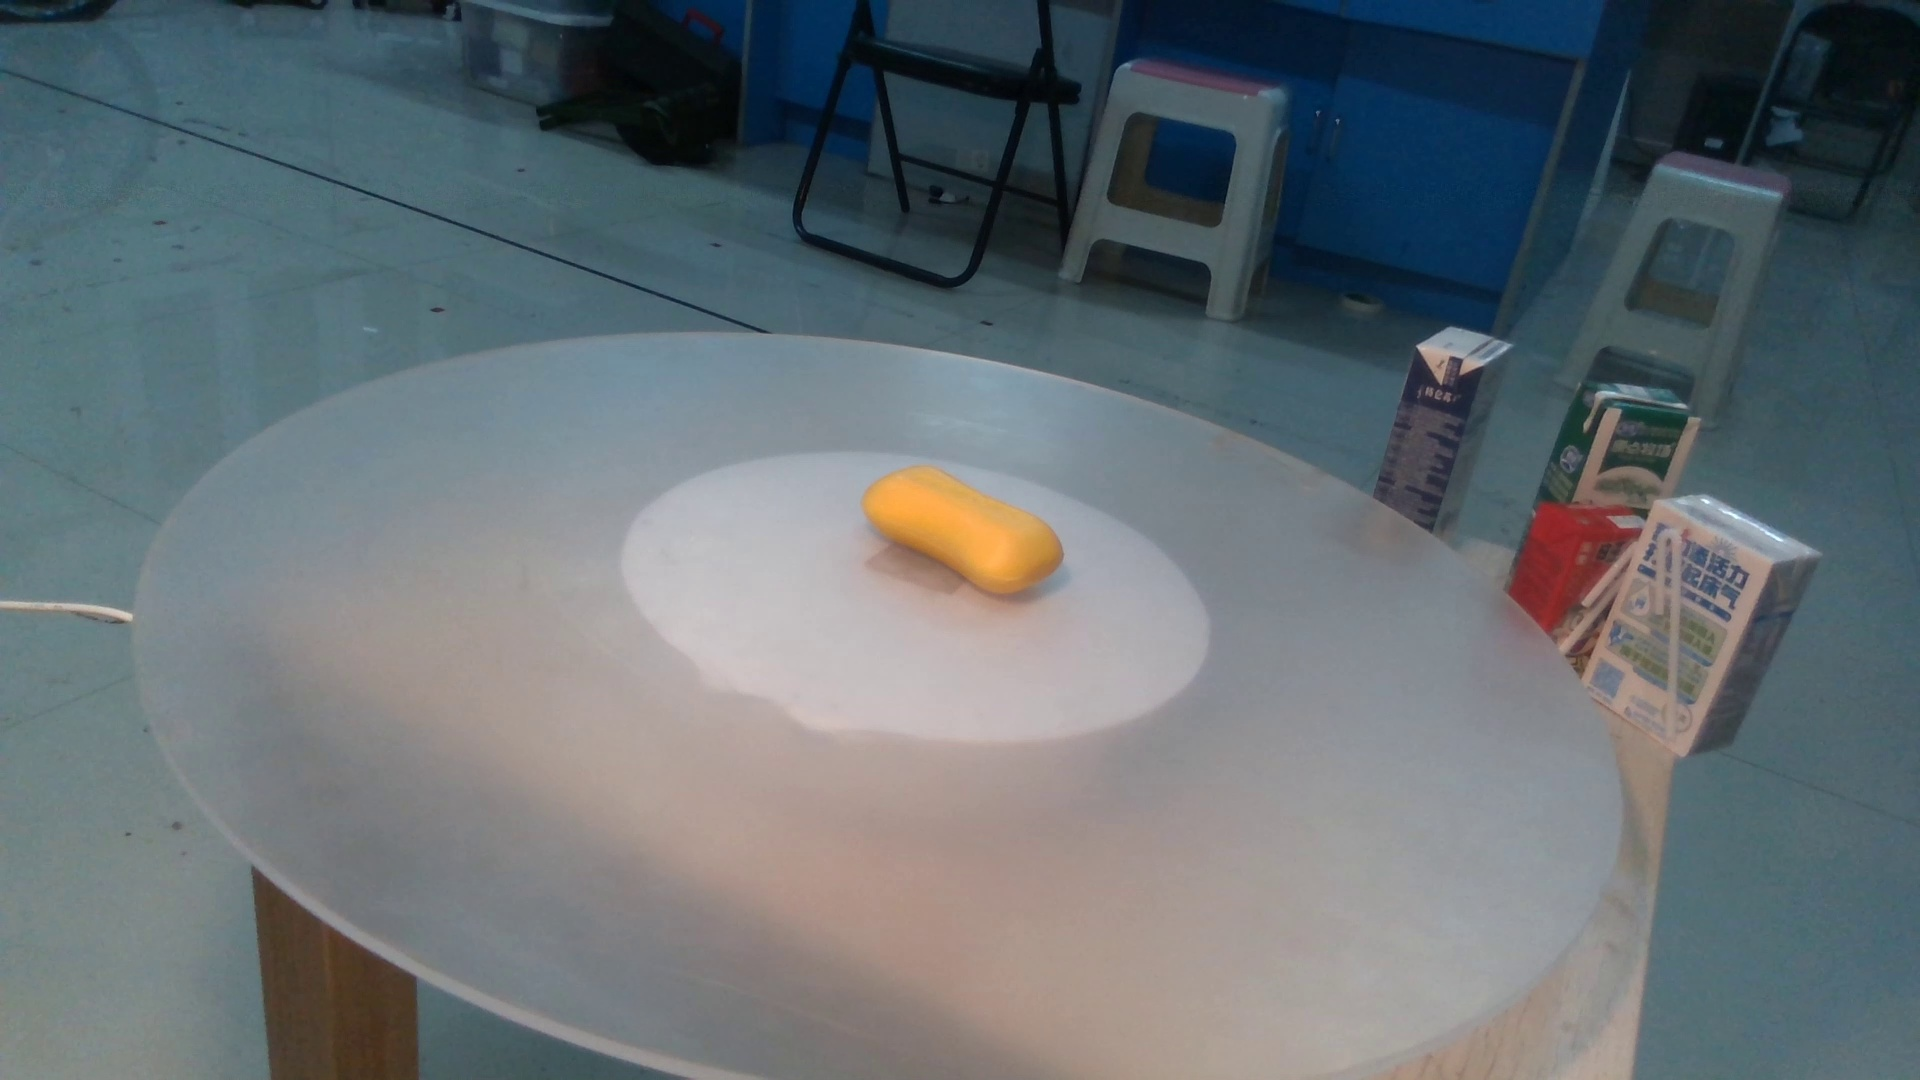CA003_1: (860, 444, 1080, 611)
